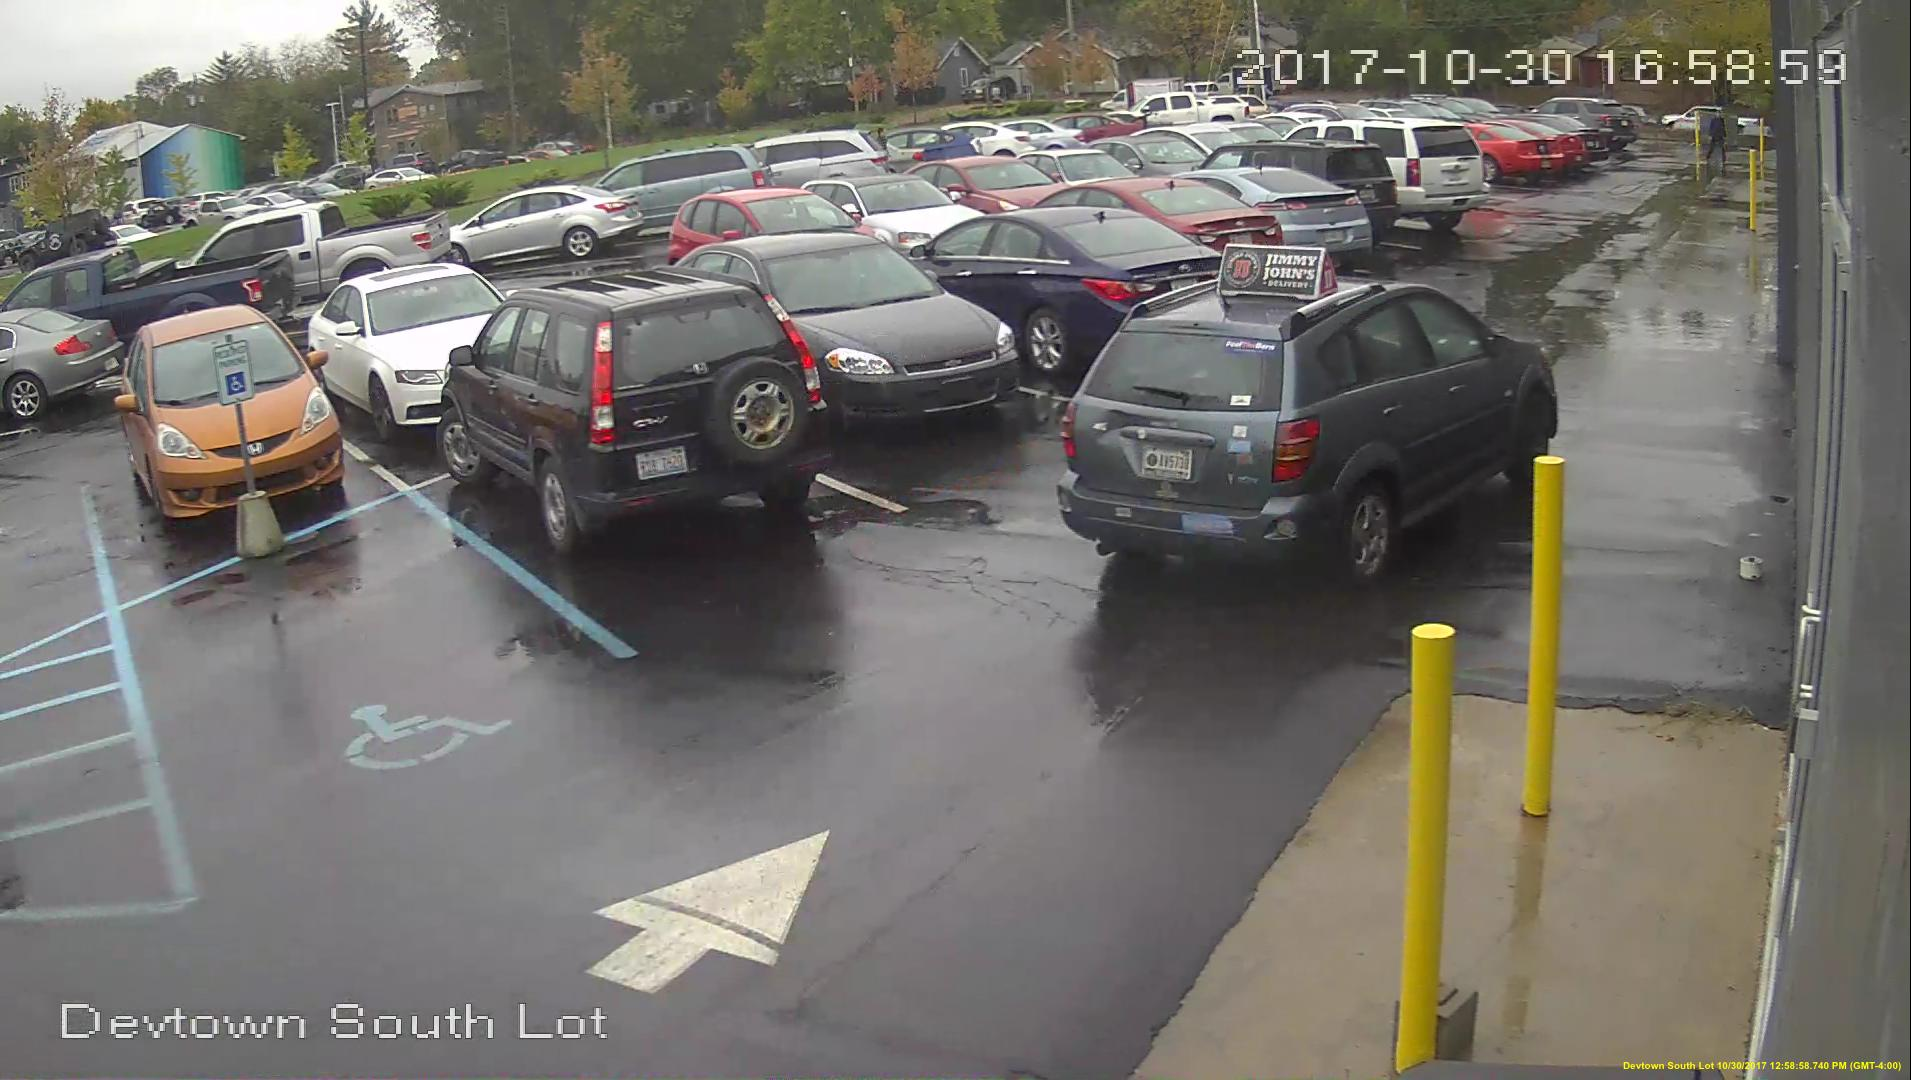jimmy_johns: (1215, 236, 1340, 308)
